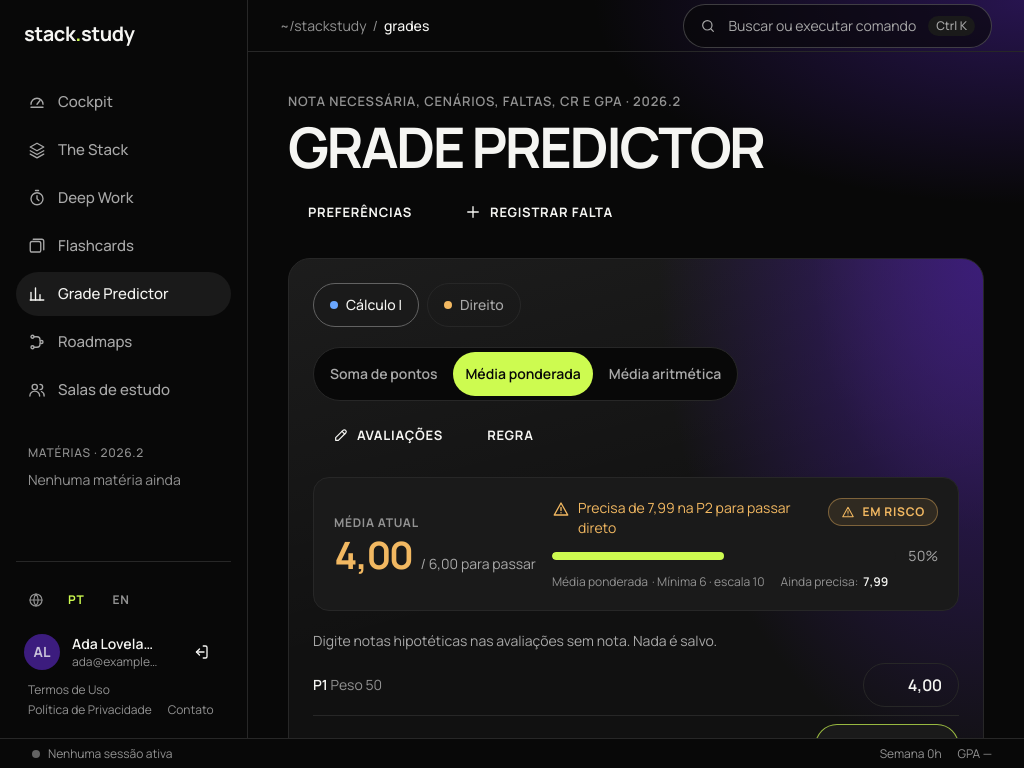
GradesPage › salva as avaliações da matéria
Click the button with aria-label "Avaliações de Cálculo I".
click(388, 435)  # box x1=313 y1=413 x2=463 y2=457
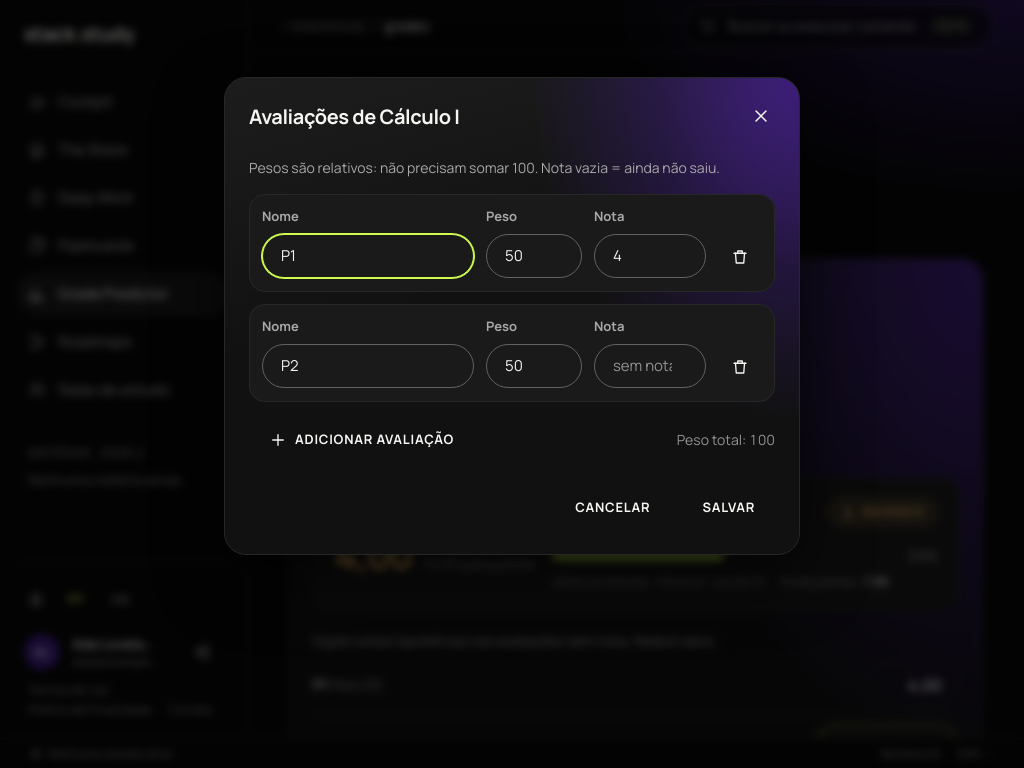
Click the button "Adicionar avaliação".
click(362, 440)  # box x1=249 y1=418 x2=474 y2=462
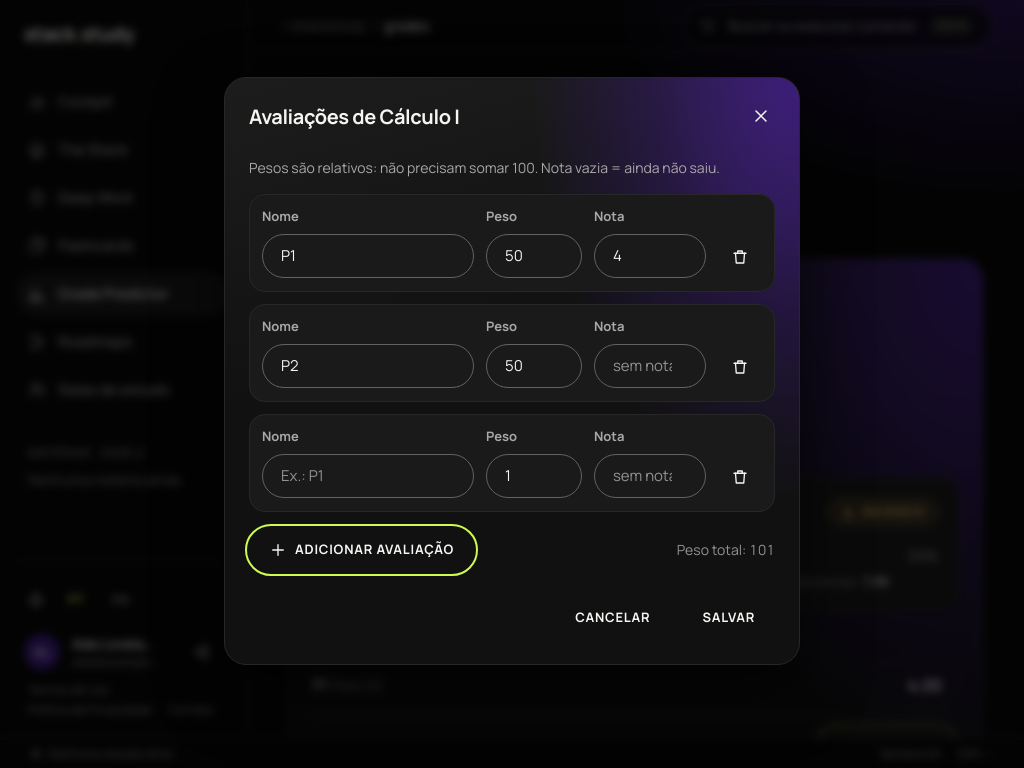
Type "Trabalho" into the 3rd field labelled "Nome".
click(368, 476); type("Trabalho")  # box x1=262 y1=454 x2=474 y2=498
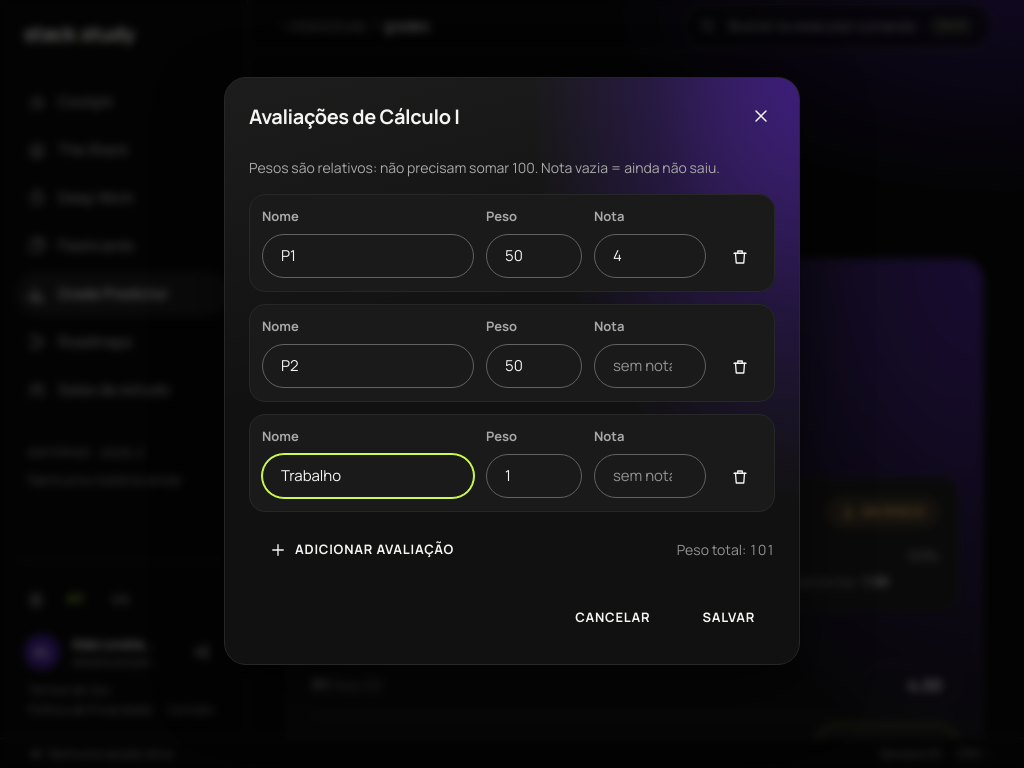
Click the button "Salvar".
click(729, 618)  # box x1=682 y1=596 x2=775 y2=640
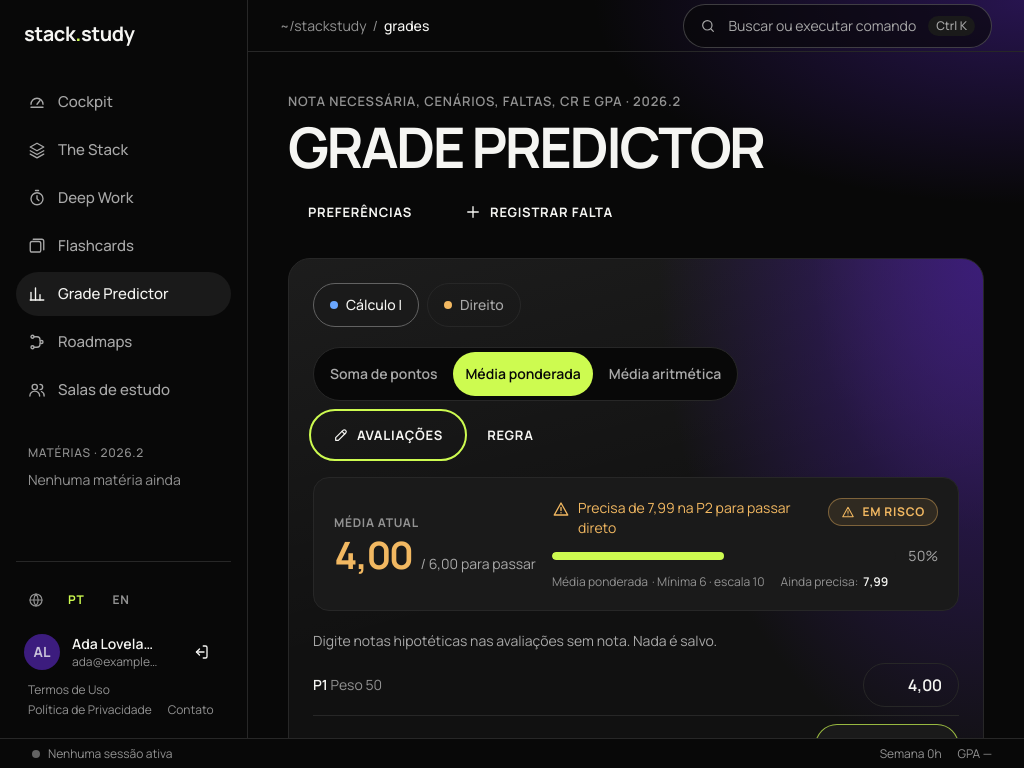
Now the dialog is gone
